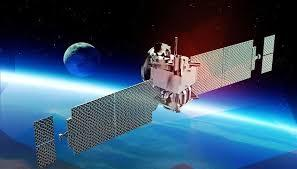body: (140, 36, 199, 114)
solar: (65, 78, 157, 159), (189, 38, 256, 99), (32, 114, 59, 169), (260, 32, 277, 76)
